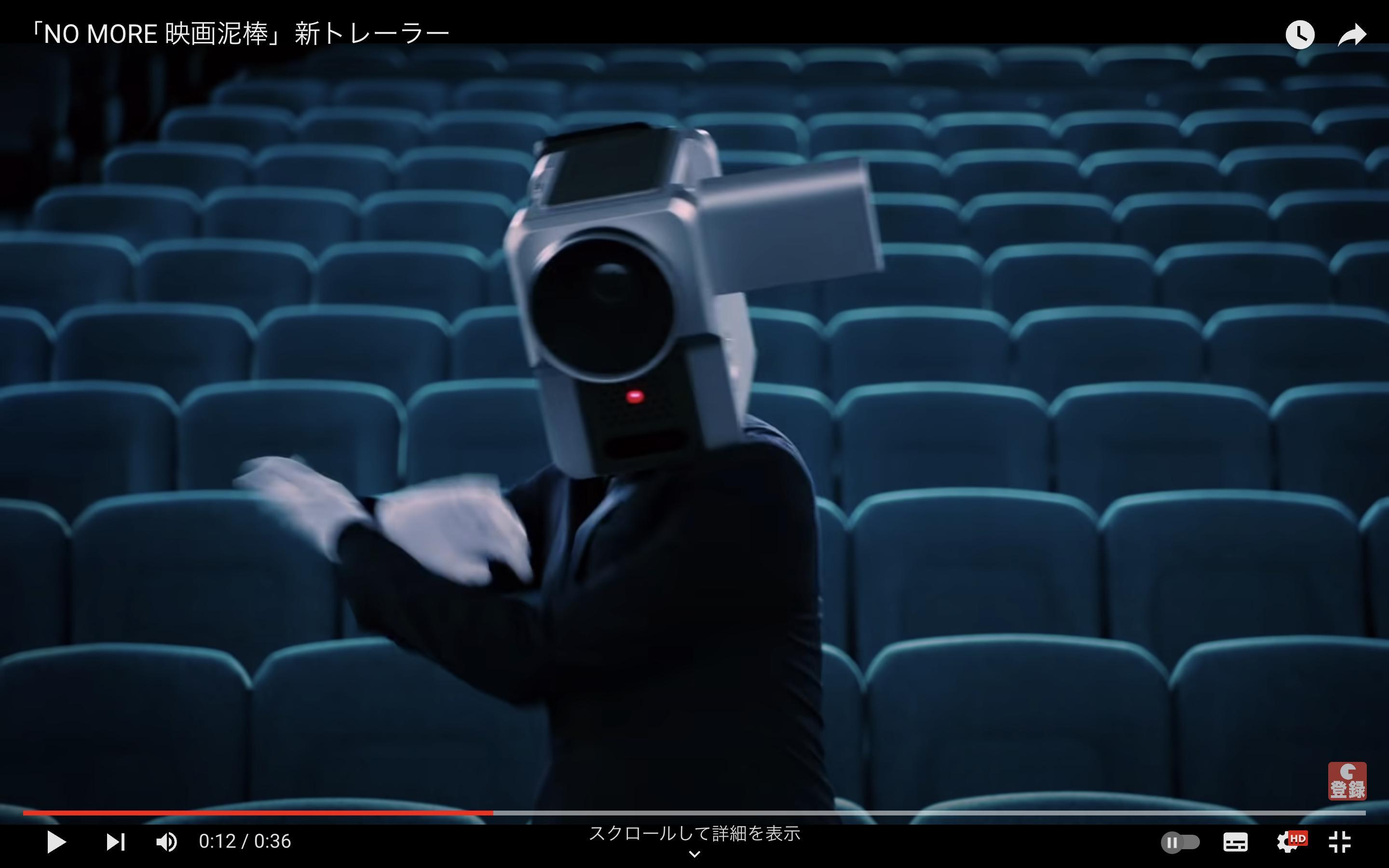no more kid: (498, 133, 891, 479)
